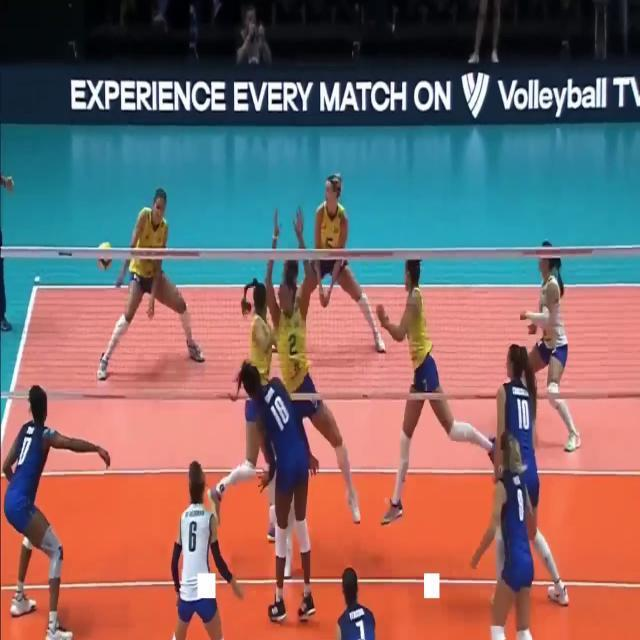volleyball: (96, 242, 114, 268)
